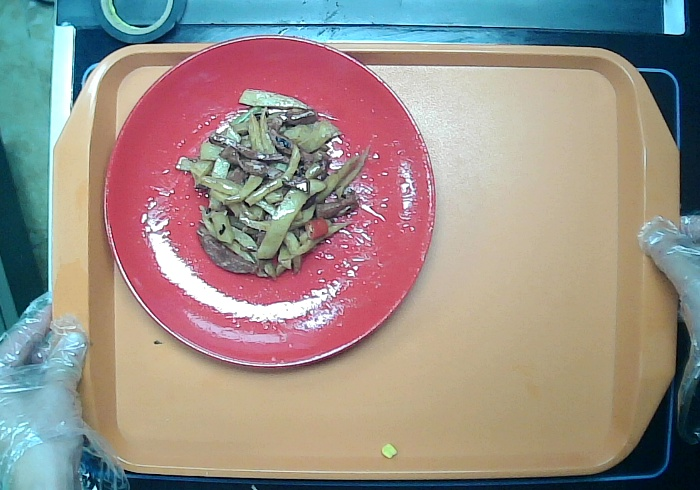HZYJPL-Hong_Se_Yuan_Pan: (95, 30, 441, 386)
